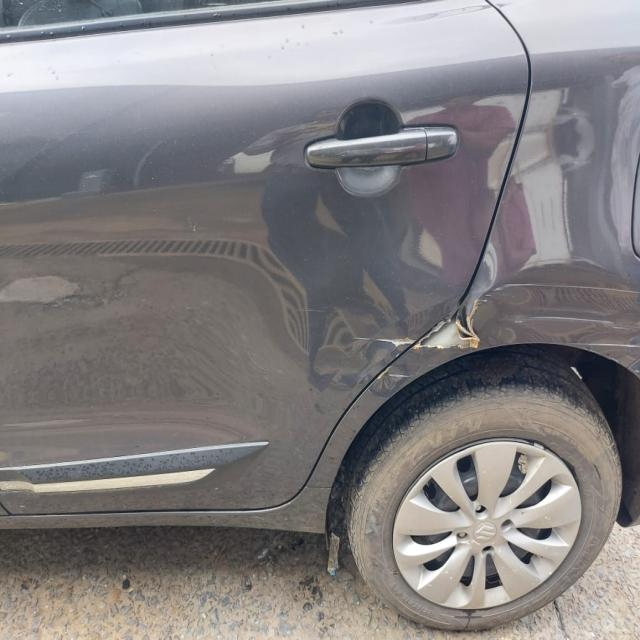damage: (499, 259, 636, 358), (411, 272, 508, 367), (0, 264, 138, 321), (345, 323, 418, 355), (223, 141, 276, 182)
